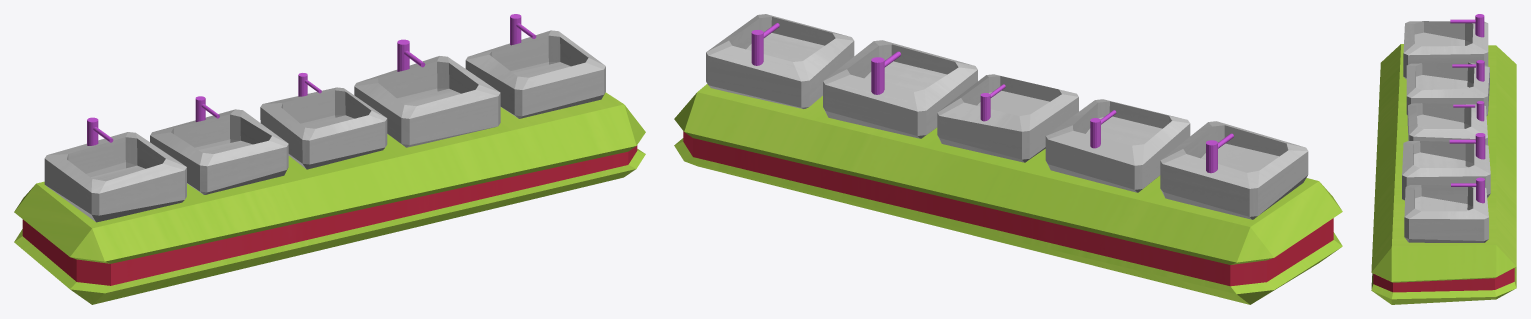
The model's file is Sink.fbx.
3 views of the same model, side by side, from view 1: azimuth 30°, elevation 25°; view 2: azimuth 150°, elevation 25°; view 3: azimuth 270°, elevation 25° (orthographic). The views are drawn at different scales.
Visible parts, largest first — view 1: Sink; view 2: Sink; view 3: Sink.
Part boxes in pixels (box(x1,y1,x2,y2)): Sink: box(14, 14, 645, 304); Sink: box(674, 14, 1342, 304); Sink: box(1371, 14, 1516, 304).
Bounding box in the file's own units: 377 × 87.04 × 105.
